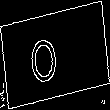O_N: (39, 26, 71, 84)
